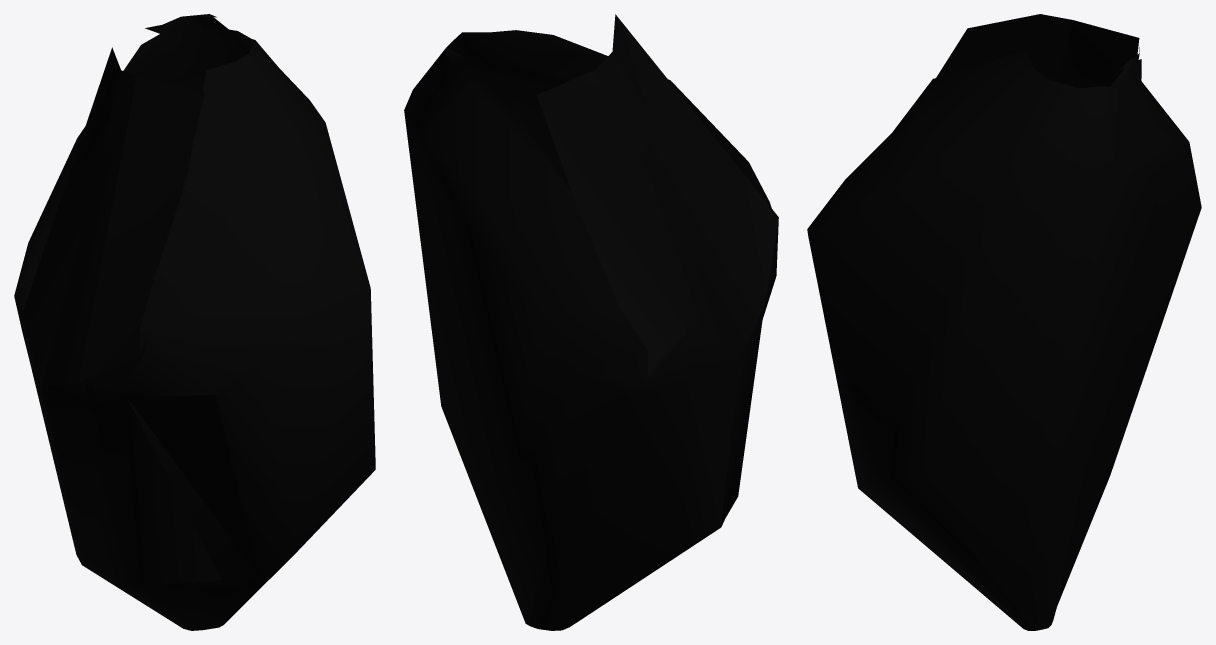
Rendered from PiernaIzq.obj.
3 renders of one model, left to right at view 1: azimuth 30°, elevation 25°; view 2: azimuth 150°, elevation 25°; view 3: azimuth 270°, elevation 25°, orthographic. The views are drawn at different scales.
Visible parts, largest first — view 1: piernaizq; view 2: piernaizq; view 3: piernaizq.
Boxes of the visible parts, <box> form: piernaizq: <box>14,14,375,630</box>; piernaizq: <box>404,14,778,630</box>; piernaizq: <box>807,14,1201,630</box>.
Bounding box in the file's own units: 0.9988 × 1.87 × 1.15.
Materials: 1 (1 with a texture image).
